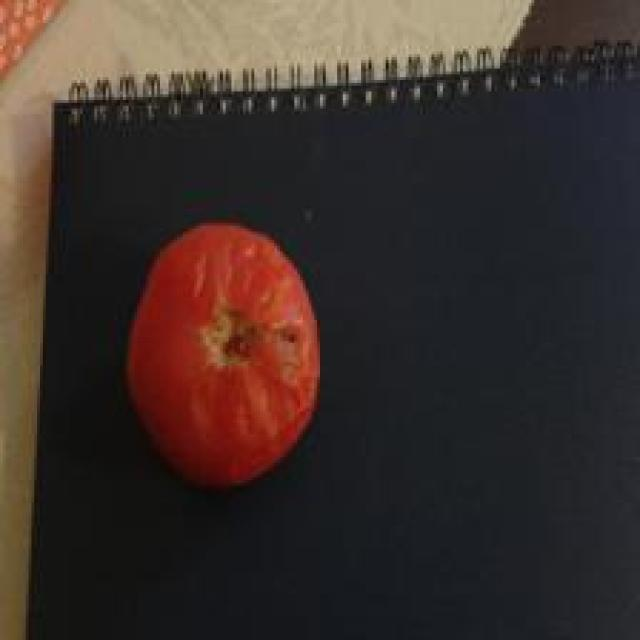overripe: (118, 214, 327, 493)
